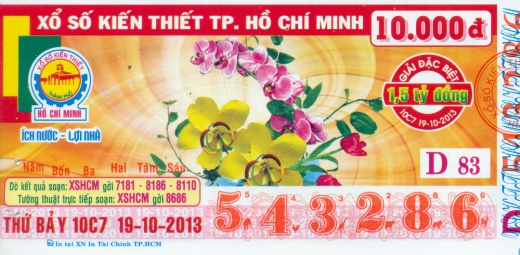serial_zone: (208, 185, 497, 239)
